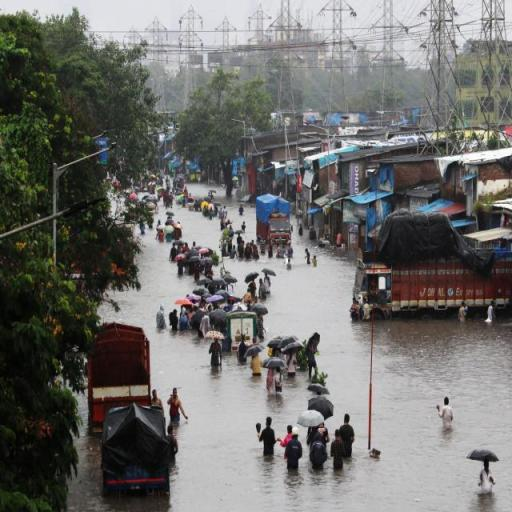flood: (68, 221, 512, 512), (174, 206, 222, 250), (228, 201, 256, 240), (155, 206, 166, 218)
house: (374, 154, 442, 202), (448, 149, 512, 200), (376, 156, 438, 198), (247, 133, 301, 172), (458, 224, 512, 260), (338, 149, 371, 202), (304, 150, 338, 201)
